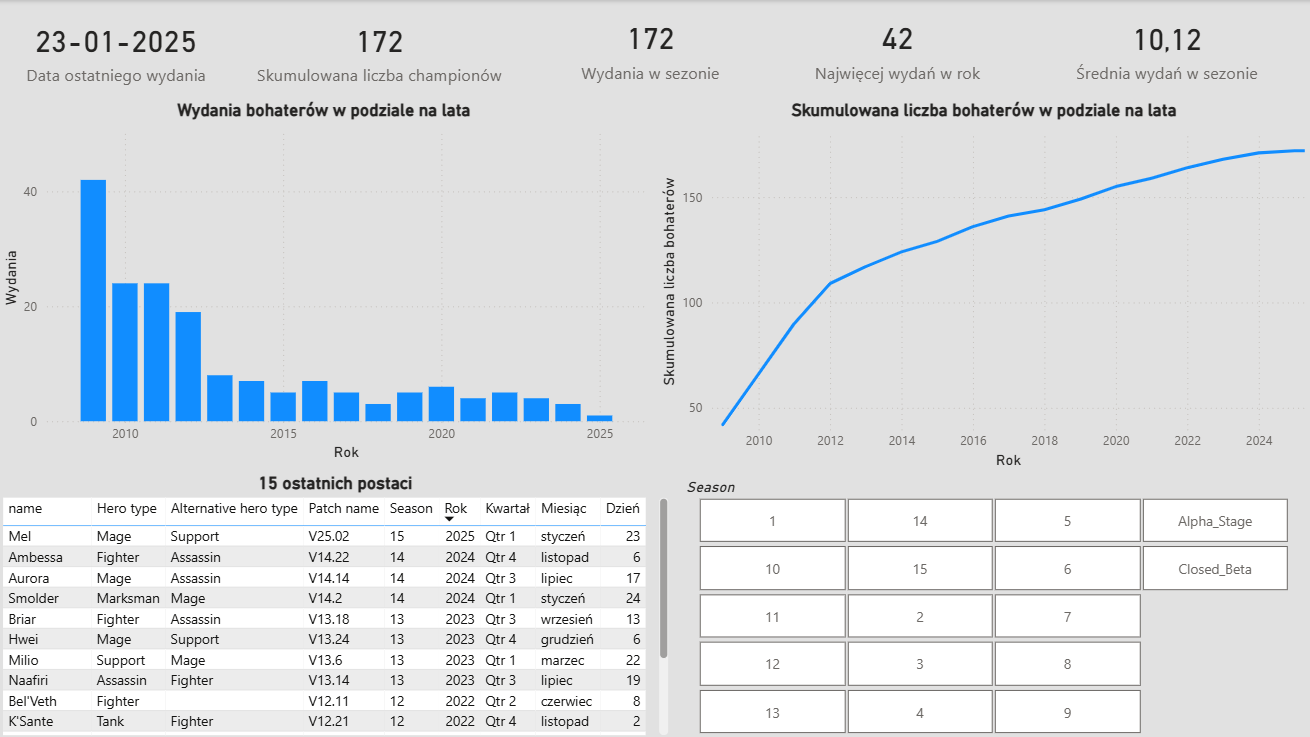

What the dashboard file says about the page in this screenshot:
{"tool":"powerbi","page":{"name":"Wydanie w czasie","canvas":[1280,720],"ordinal":0},"visuals":[{"type":"slicer","fields":{"Values":["patch.season"]},"box":[658,460.2,622,260.2],"z":0},{"type":"card","fields":{"Values":["_Miary.Skumulowana liczba championów"]},"box":[228.5,0,286.7,97.3],"z":1000},{"type":"card","fields":{"Values":["_Miary.Wydania w sezonie"]},"box":[515.2,0,240.1,93.1],"z":2000},{"type":"card","fields":{"Values":["_Miary.Wydania najaktywniejszy rok"]},"box":[755.3,0,240.1,93.1],"z":3000},{"type":"card","fields":{"Values":["_Miary.Data ostatniego wydania"]},"box":[0,0,231.7,97.3],"z":4000},{"type":"clusteredColumnChart","title":"Wydania bohaterów w podziale na lata","fields":{"Category":["patch_date.year"],"Y":["_Miary.Wydania per rok"]},"box":[0,97.3,635.8,355.4],"z":5000},{"type":"lineChart","title":"Skumulowana liczba bohaterów w podziale na lata","fields":{"Category":["patch_date.year"],"Y":["_Miary.Skumulowana liczba championów"]},"box":[640,97.3,640,362.8],"z":6000},{"type":"tableEx","title":"15 ostatnich postaci","fields":{"Values":["champion.name","champion.hero_type","champion.alternative_hero_type","patch.patch_name","patch.season","patch_date.full_date.Odmiana.Hierarchia dat.Rok","patch_date.full_date.Odmiana.Hierarchia dat.Kwartał","patch_date.full_date.Odmiana.Hierarchia dat.Miesiąc","patch_date.full_date.Odmiana.Hierarchia dat.Dzień"]},"box":[0,460.2,658,260.2],"z":7000},{"type":"card","fields":{"Values":["_Miary.Średnia wydań w sezonie"]},"box":[996,0,284,93.4],"z":7001}]}

Visuals, with their boxes in screenshot pixels (x1, y1, x2, y2), scaled from the page's 1280x720 canvas onto the 1310x737 screenshot:
slicer - patch.season: <box>673,471,1309,736</box>
card - _Miary.Skumulowana liczba championów: <box>234,0,527,100</box>
card - _Miary.Wydania w sezonie: <box>527,0,773,95</box>
card - _Miary.Wydania najaktywniejszy rok: <box>773,0,1019,95</box>
card - _Miary.Data ostatniego wydania: <box>0,0,237,100</box>
"Wydania bohaterów w podziale na lata" clusteredColumnChart: <box>0,100,651,463</box>
"Skumulowana liczba bohaterów w podziale na lata" lineChart: <box>655,100,1309,471</box>
"15 ostatnich postaci" tableEx: <box>0,471,673,736</box>
card - _Miary.Średnia wydań w sezonie: <box>1019,0,1309,96</box>
